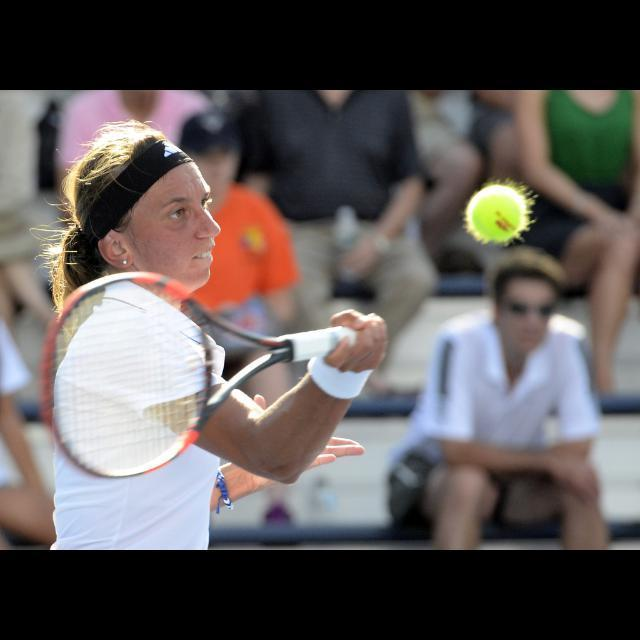tennis-ball: (462, 183, 528, 244)
